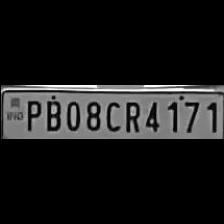0: (62, 98, 82, 132)
1: (200, 99, 220, 133), (162, 97, 180, 132)
4: (142, 98, 160, 132)
7: (180, 97, 200, 132)
8: (82, 98, 102, 132)
B: (42, 96, 60, 132)
C: (102, 97, 120, 132)
P: (21, 96, 39, 132)
R: (120, 97, 140, 132)
